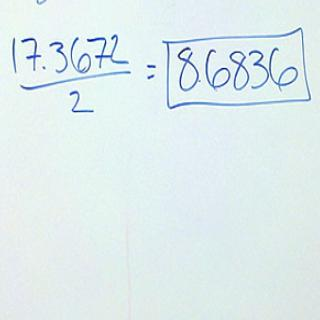.: (40, 61, 50, 71)
1: (6, 33, 21, 76)
2: (71, 87, 99, 114), (109, 33, 127, 65)
3: (246, 47, 272, 92), (50, 39, 70, 74)
6: (266, 46, 298, 88), (67, 34, 94, 73), (204, 47, 229, 88)
7: (21, 34, 41, 72), (90, 35, 110, 69)
8: (176, 47, 199, 92), (228, 46, 249, 92)
